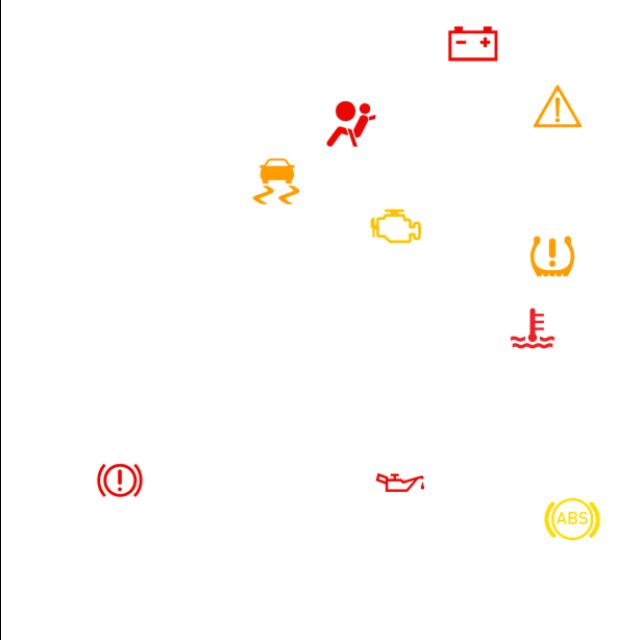Anti Lock Braking System: (541, 488, 601, 550)
Braking System Issue: (89, 450, 149, 510)
Charging System Issue: (442, 14, 502, 74)
Check Engine: (365, 196, 425, 256)
Electronic Stability Problem -ESP-: (245, 152, 305, 212)
Engine Overheating Warning Light: (502, 298, 562, 358)
Low Engine Oil Warning Light: (369, 452, 429, 512)
Low Tire Pressure Warning Light: (522, 226, 582, 286)
Master warning light: (526, 76, 586, 136)
SRS-Airbag: (320, 94, 380, 154)
